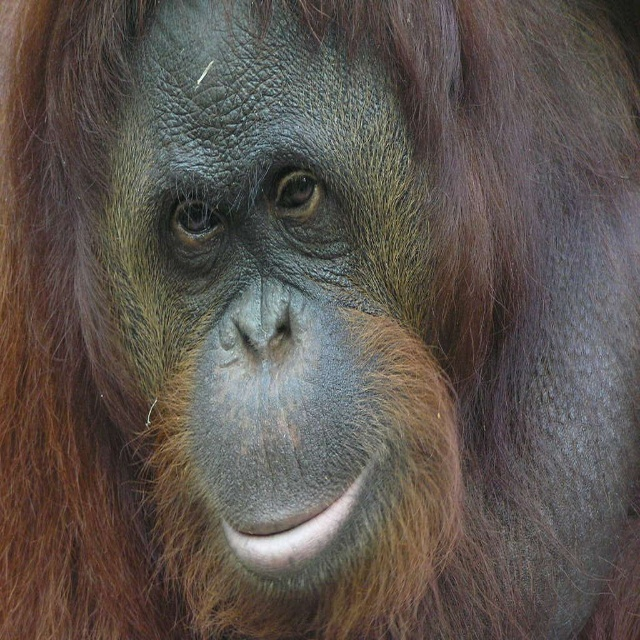Monkey: (40, 0, 640, 640)
